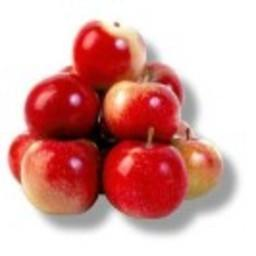apple: (103, 140, 187, 219), (20, 141, 100, 216), (101, 80, 182, 145), (71, 18, 148, 84), (23, 75, 100, 137), (171, 133, 222, 200)
